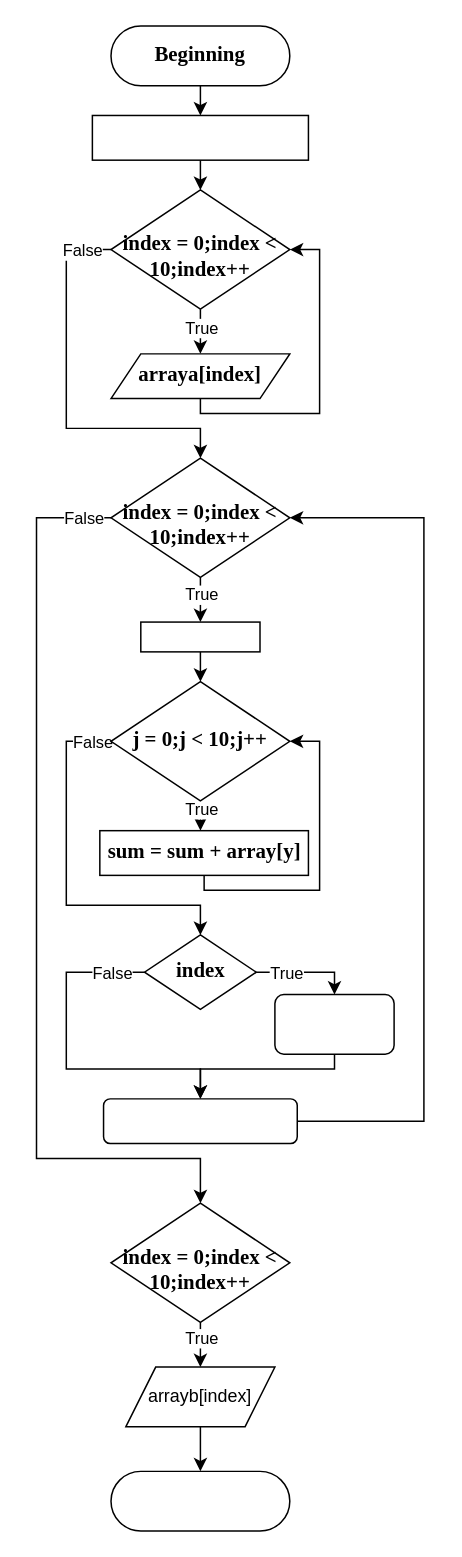
The diagram is 462 pixels wide and 1557 high, and some of its shapes have lost their labels. Each missing label, with the box of its shape:
arrayb[index] = sum: (102, 1097, 297, 1144)
End: (110, 1470, 290, 1531)
sum = 0: (139, 621, 260, 652)
sum = sum / (index + 1): (273, 993, 394, 1054)
sum, array[10],array[10]: (91, 114, 308, 160)
